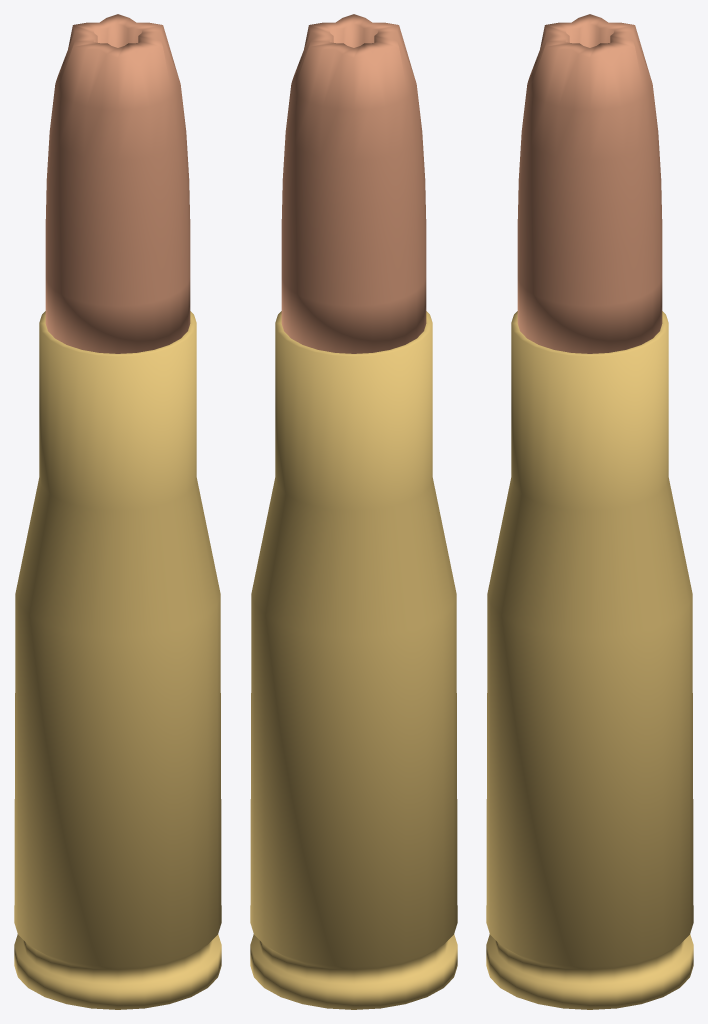
3 views of the same model, side by side, from view 1: azimuth 30°, elevation 25°; view 2: azimuth 150°, elevation 25°; view 3: azimuth 270°, elevation 25° (orthographic).
Visible parts, largest first — view 1: vaina, bala_hueca; view 2: vaina, bala_hueca; view 3: vaina, bala_hueca.
Boxes of the visible parts, box(x1,y1,x2,y2) form: vaina: box(14, 311, 221, 1009); bala_hueca: box(45, 14, 190, 353); vaina: box(250, 311, 457, 1009); bala_hueca: box(281, 14, 426, 353); vaina: box(486, 311, 693, 1009); bala_hueca: box(517, 14, 662, 353).
Size of the model in its own units: 0.0113 by 0.056 by 0.0113.
